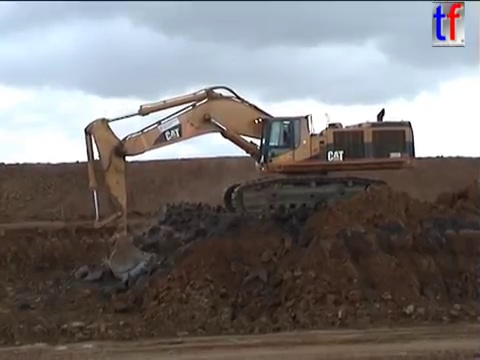excavator: (80, 82, 418, 285)
